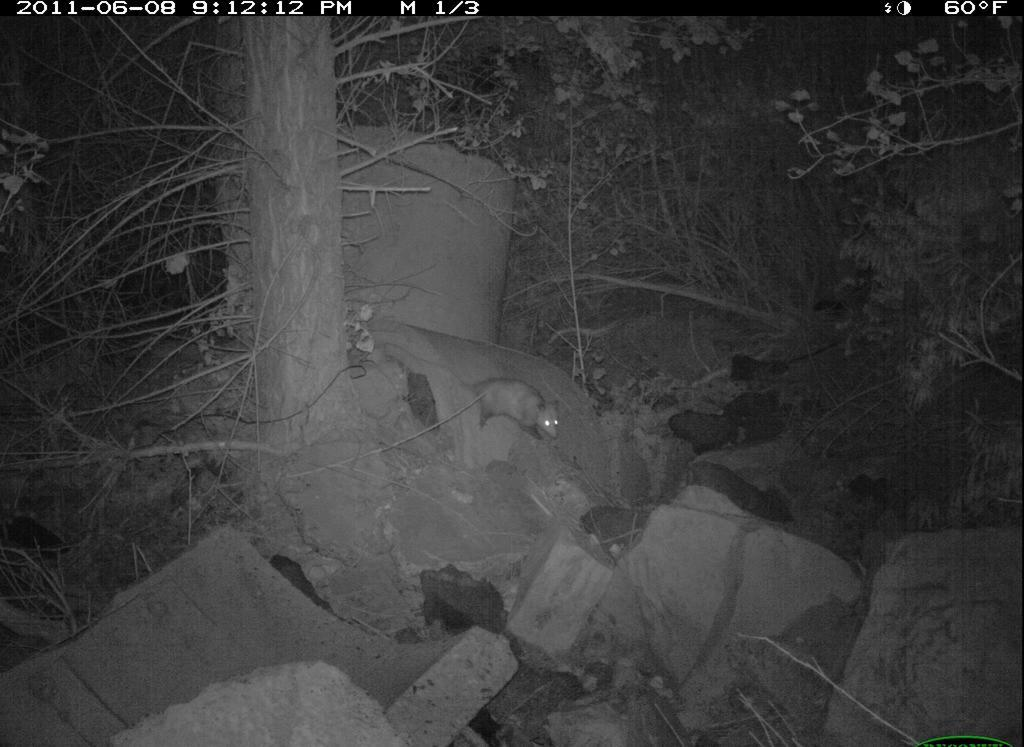opossum: (441, 363, 565, 447)
